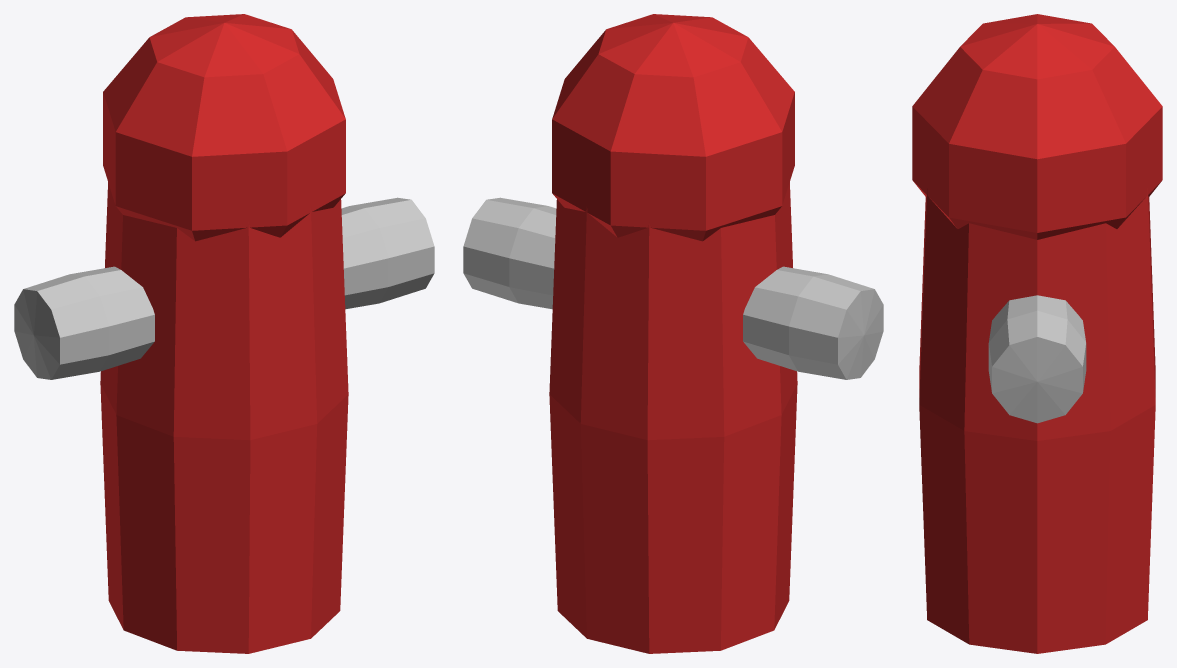
Rendered from s-hydrant.glb.
The picture shows the model from 3 angles, left to right: view 1: azimuth 30°, elevation 25°; view 2: azimuth 150°, elevation 25°; view 3: azimuth 270°, elevation 25°; orthographic projection.
Visible parts, largest first — view 1: p; view 2: p; view 3: p.
Part boxes in pixels (x1,y1,x2,y2): p: (14,14,434,653); p: (463,14,883,653); p: (912,14,1162,653).
Bounding box in the file's own units: 0.6 × 0.9 × 0.3424.
